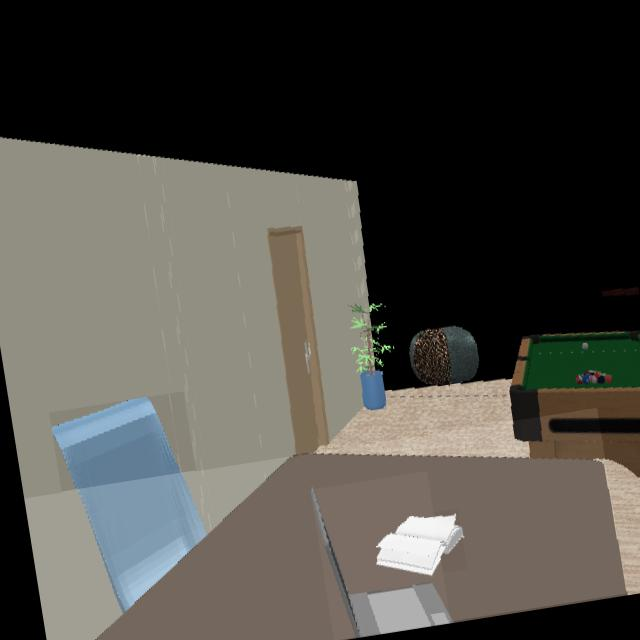book: (377, 516, 463, 574)
chair: (52, 398, 205, 609)
laptop: (96, 454, 627, 640), (311, 489, 451, 637)
